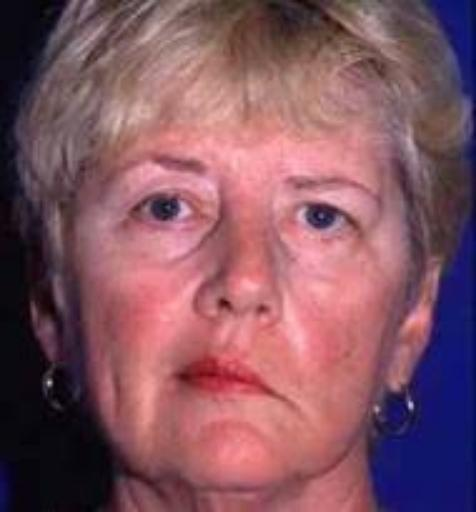left_eye: (285, 200, 362, 238)
left_lip_corner: (262, 387, 299, 410)
right_eye: (130, 193, 209, 229)
right_lip_corner: (157, 365, 194, 389)
